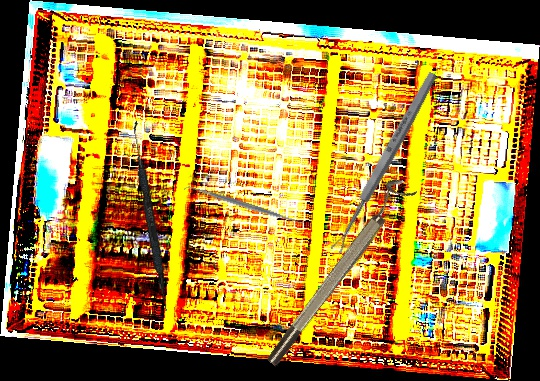Fixation Ring: (255, 173, 418, 370)
Spatula Surgical: (126, 121, 174, 312), (182, 179, 306, 231)
Surgical Spoon: (328, 70, 440, 255)
